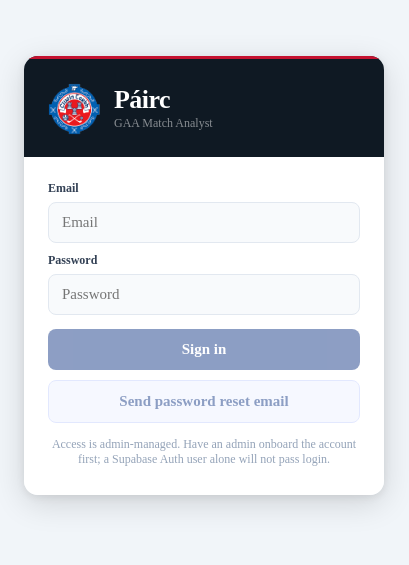
Scenario: Login › blocks sign-in when the account is not in the beta allowlist
Step 1. Type "smoke@yourapp.com" into the field labelled "Email" → (204, 222), box [48,202,360,242]
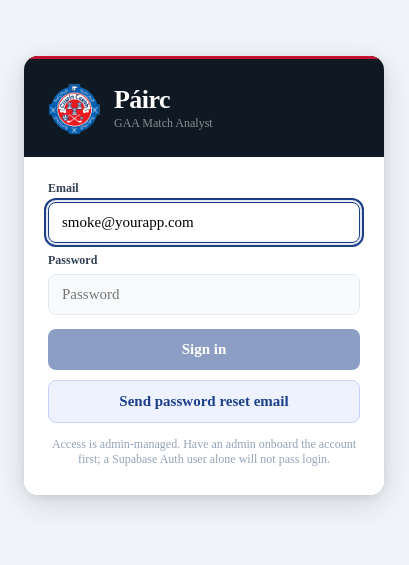
Step 2. Type "temporary123" into the password field labelled "Password" → (204, 294), box [48,274,360,314]
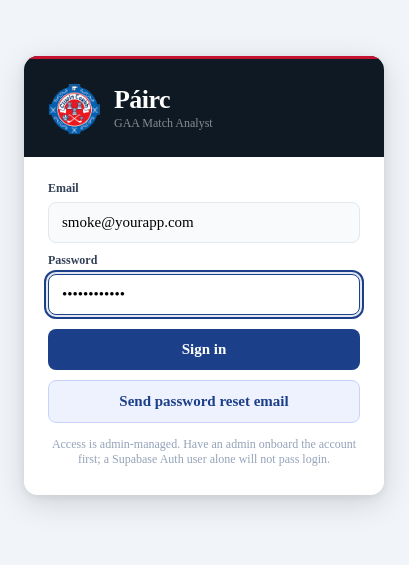
Step 3. Click the button "Sign in" → (204, 349), box [48,328,360,370]
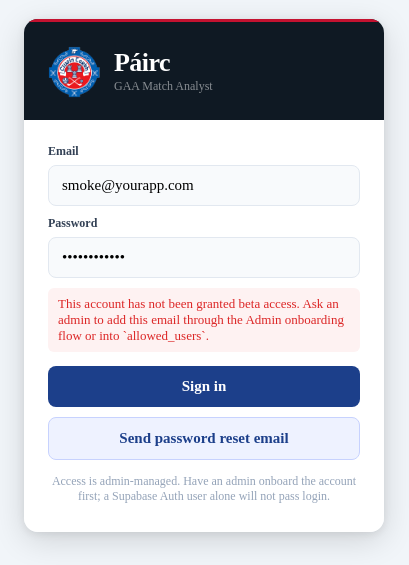
Check: the message shows "allowed_users", box [58,296,344,342]
